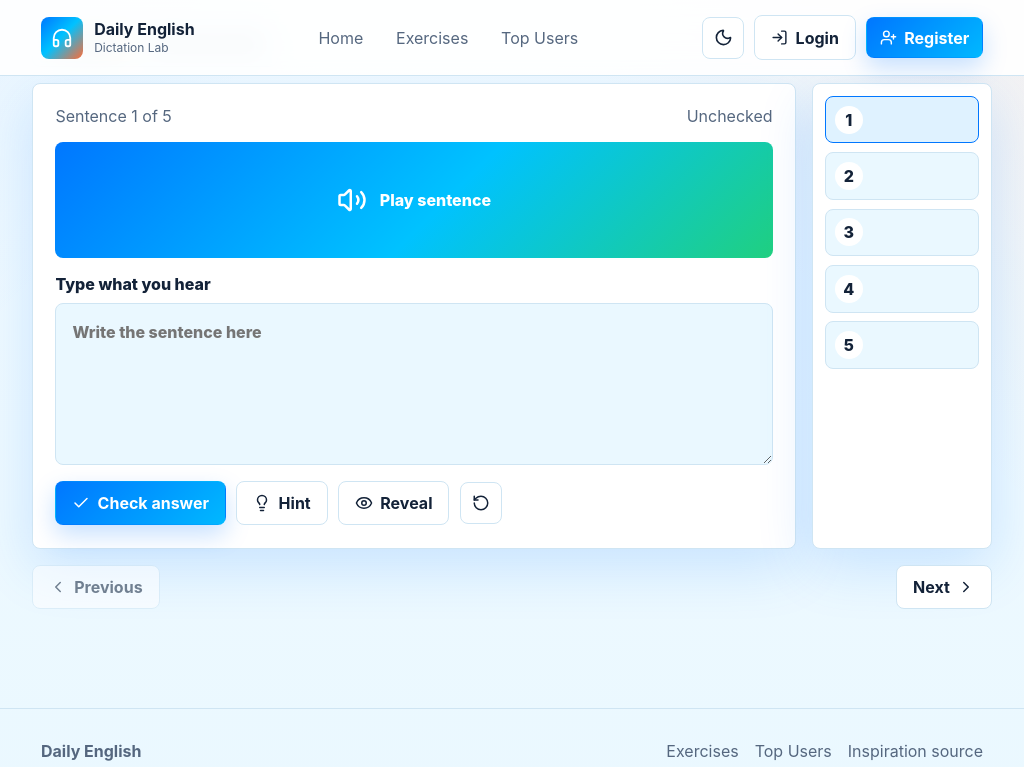
Daily English app › checks a lesson answer and shows feedback
(page scrolled)
Type "morning train arrive early today" into the text box labelled "Type what you hear" at (414, 384), box [55,303,773,465]
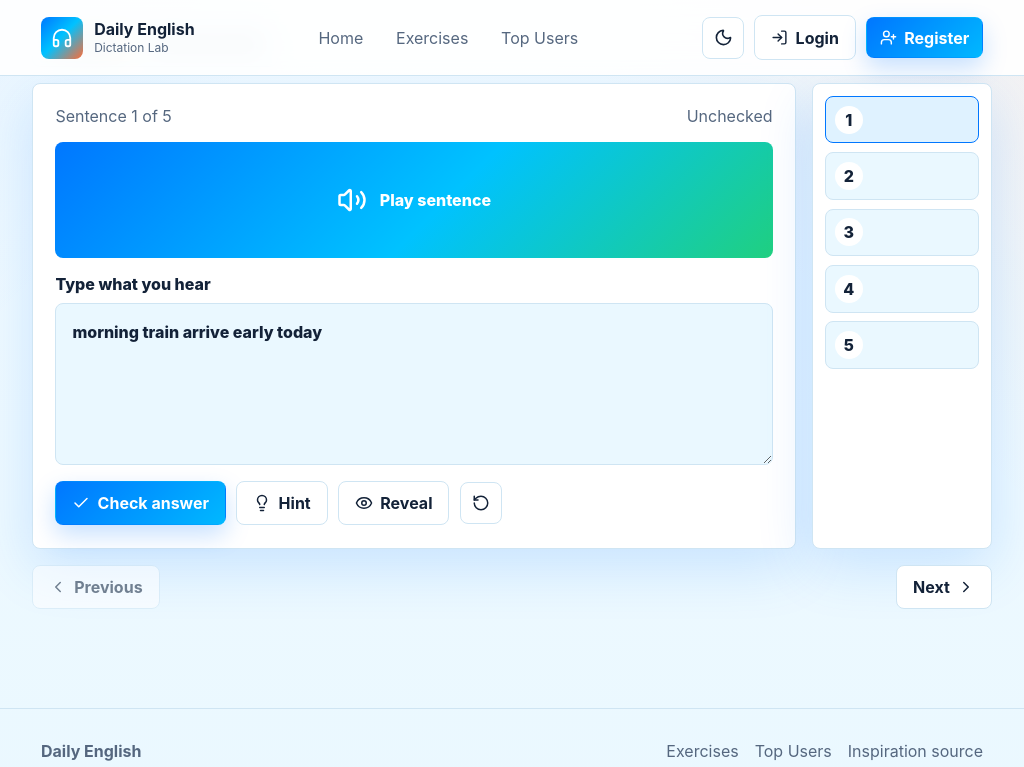
Click the button "Check answer" at (141, 503), box [55,481,226,525]
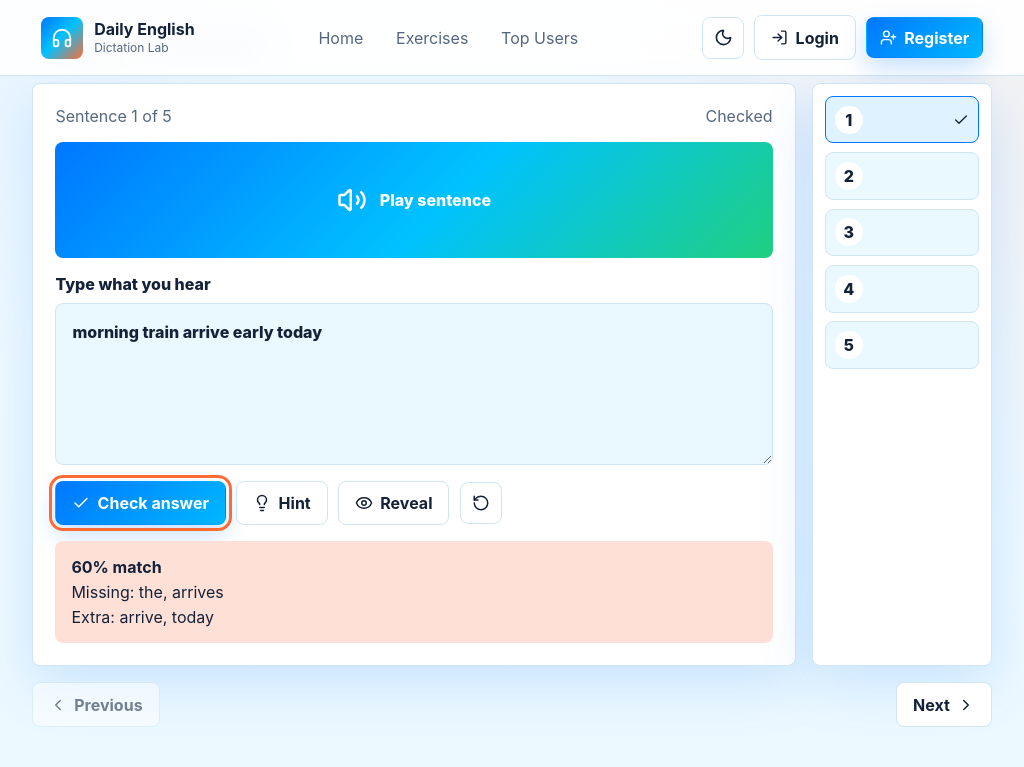
Now the text "60% match" is shown, box [71,557,162,577]
Now the text "Missing: the, arrives" is shown, box [71,582,224,602]
Now the text "Extra: arrive, today" is shown, box [71,607,214,627]
